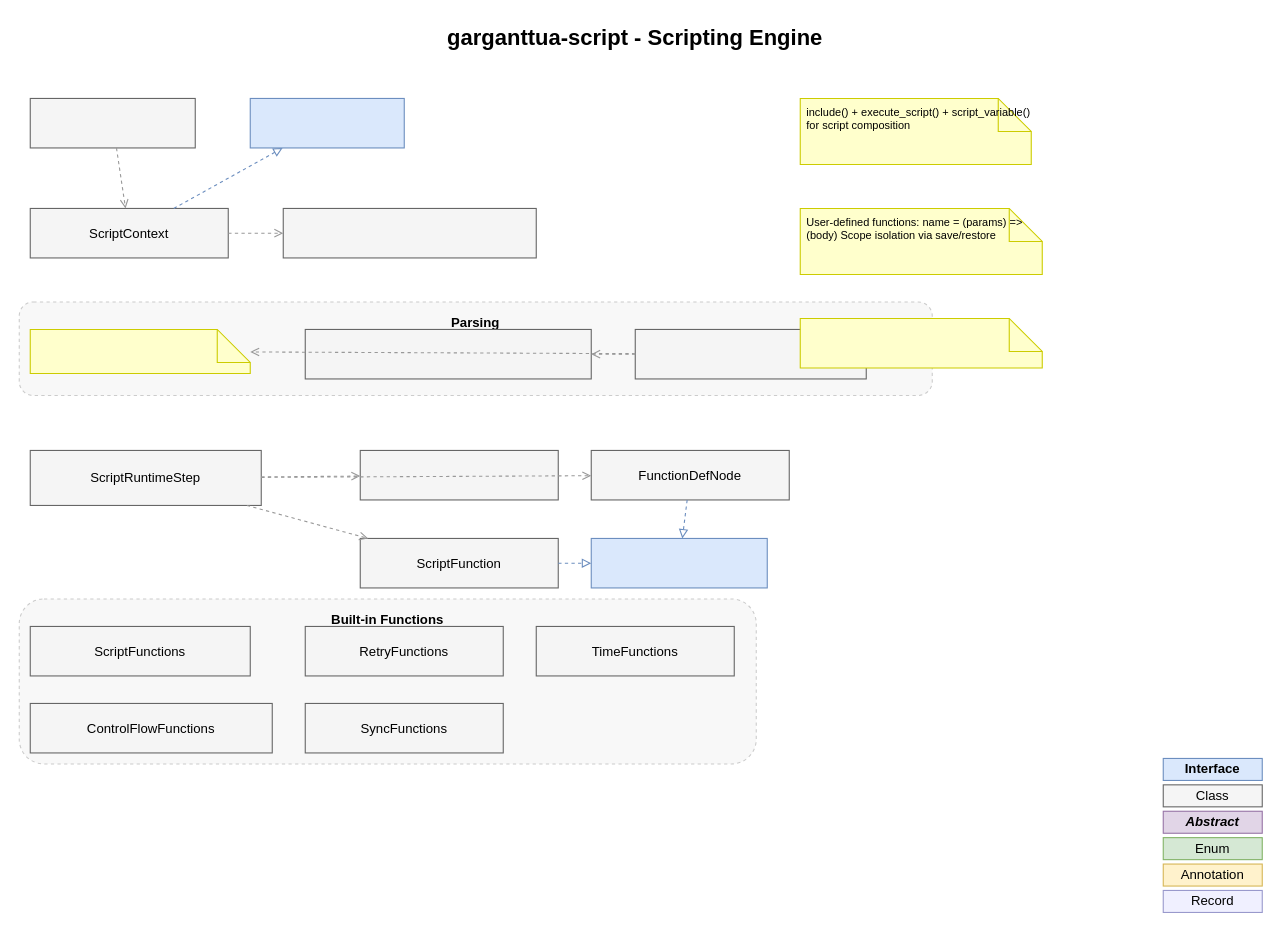
Image size: 1282x932. Some labels were removed from this diagram. Each missing label, with the centre of its shape:
"BlockExpressionPreprocessor" goes at [447,353].
"if(cond, thenBlock, elseBlock) Lazy StatementBlock evaluation" goes at [920,342].
"IScript" goes at [326,122].
"IScriptNode" goes at [678,562].
"Main (CLI)" goes at [112,122].
"Script.g4 (ANTLR4)" goes at [139,350].
"ScriptExecutionContext" goes at [409,232].
"ScriptNodeVisitor" goes at [750,353].
"StatementBlock" goes at [458,474].
